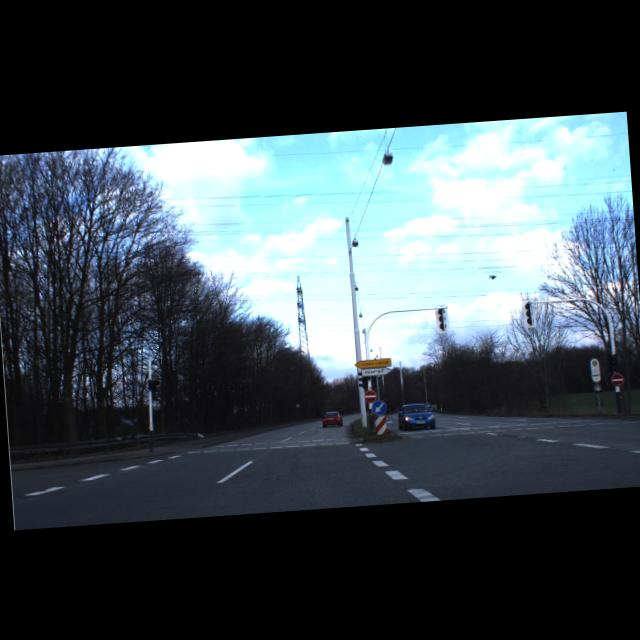mandatory: (370, 398, 388, 416)
other: (610, 372, 624, 386), (363, 389, 376, 402)
